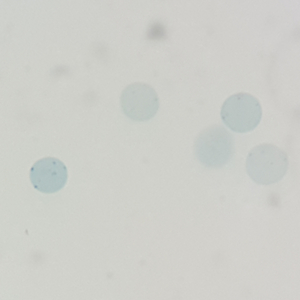erythrocyte: (191, 123, 238, 170)
punctate reticulocyte: (243, 142, 290, 188), (218, 92, 265, 136), (118, 81, 161, 123), (28, 156, 70, 195)
